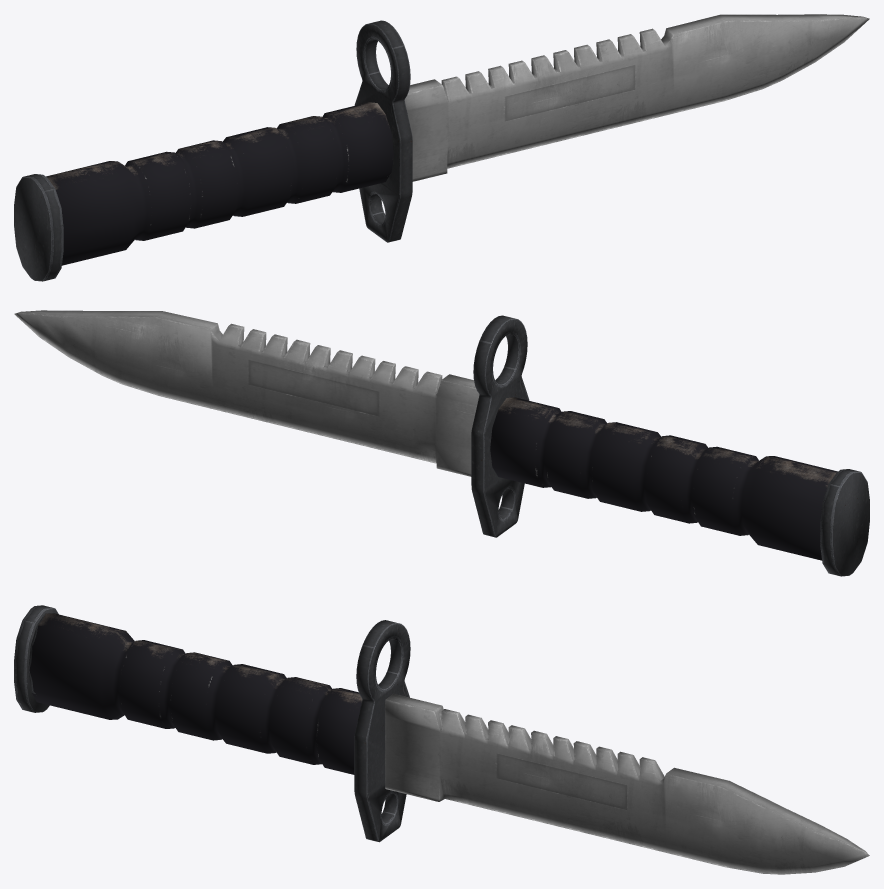
File: m9_knife.obj
The picture shows the model from 3 angles, top to bottom: view 1: azimuth 30°, elevation 25°; view 2: azimuth 150°, elevation 25°; view 3: azimuth 330°, elevation 25°; orthographic projection.
Parts seen in each view (by area): view 1: M9_Knife_Cube.003; view 2: M9_Knife_Cube.003; view 3: M9_Knife_Cube.003.
Part boxes in pixels (<box>): M9_Knife_Cube.003: <box>14,14,869,281</box>; M9_Knife_Cube.003: <box>14,310,869,576</box>; M9_Knife_Cube.003: <box>14,605,869,874</box>.
Size of the model in its own units: 12.03 by 2.87 by 1.15.
